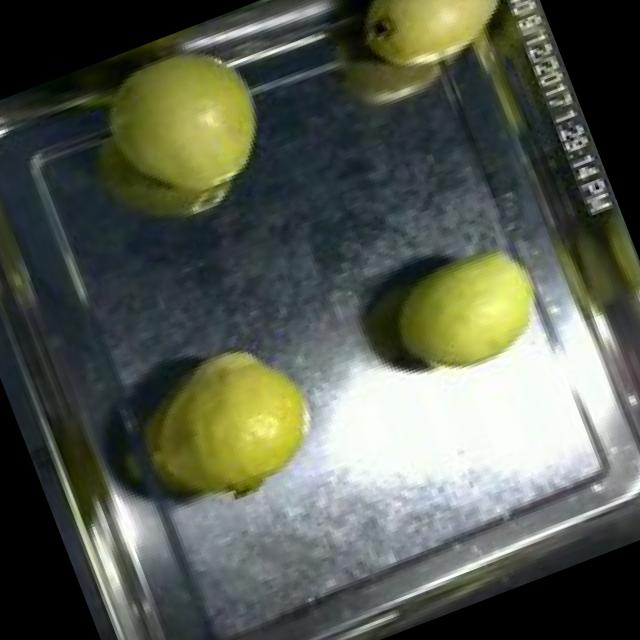Fruit: (75, 15, 297, 248), (112, 318, 346, 535), (370, 222, 568, 400), (327, 0, 542, 106)
